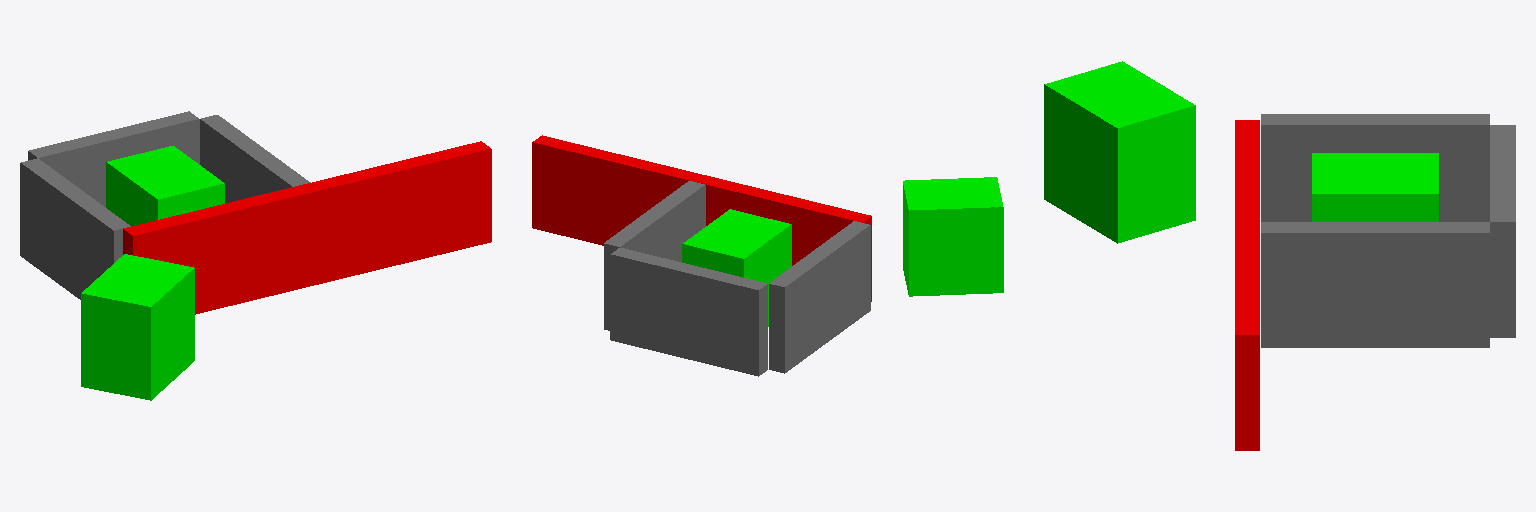
The robot description file, URDF, robot "move_n_times1":
<?xml version="1.0"?>
<!-- created with Phobos 1.0.1 "Capricious Choutengan" -->
  <robot name="move_n_times1">

    <link name="base_link">
    </link>

    <link name="goal">
    </link>

    <link name="link_0_joint_0">
      <visual name="visual_box_2_link_0">
        <origin xyz="0 0 0" rpy="0 0 0"/>
        <geometry>
          <box size="0.374 0.499 0.499"/>
        </geometry>
        <material name="green"/>
      </visual>
      <collision name="collision_box_2_link_0">
        <origin xyz="0 0 0" rpy="0 0 0"/>
        <geometry>
          <box size="0.374 0.499 0.499"/>
        </geometry>
      </collision>
    </link>

    <link name="link_0_joint_0.001">
      <visual name="visual_box_2_link_0.001">
        <origin xyz="0 0 0" rpy="0 0 0"/>
        <geometry>
          <box size="0.37363 0.4985 0.4985"/>
        </geometry>
        <material name="green_translucent"/>
      </visual>
    </link>

    <link name="link_0_joint_1">
    </link>

    <link name="link_0_joint_1.001">
    </link>

    <link name="link_0_joint_2">
    </link>

    <link name="link_1_joint_0">
      <visual name="visual_box_3_link_1">
        <origin xyz="0 0 0" rpy="0 0 0"/>
        <geometry>
          <box size="1.999 0.099 0.499"/>
        </geometry>
        <material name="red"/>
      </visual>
      <collision name="collision_box_3_link_1">
        <origin xyz="0 0 0" rpy="0 0 0"/>
        <geometry>
          <box size="1.999 0.099 0.499"/>
        </geometry>
      </collision>
    </link>

    <link name="link_fixed_4_wall_north_0">
      <visual name="visual_box_fixed_4_wall_north_0">
        <origin xyz="0 0 0" rpy="0 0 0"/>
        <geometry>
          <box size="0.899 0.099 0.499"/>
        </geometry>
        <material name="gray"/>
      </visual>
      <collision name="collision_box_fixed_4_wall_north_0">
        <origin xyz="0 0 0" rpy="0 0 0"/>
        <geometry>
          <box size="0.899 0.099 0.499"/>
        </geometry>
      </collision>
    </link>

    <link name="link_fixed_5_wall_northwest_0">
      <visual name="visual_box_fixed_5_wall_northwest_0">
        <origin xyz="0 0 0" rpy="0 0 0"/>
        <geometry>
          <box size="0.099 0.899 0.499"/>
        </geometry>
        <material name="gray"/>
      </visual>
      <collision name="collision_box_fixed_5_wall_northwest_0">
        <origin xyz="0 0 0" rpy="0 0 0"/>
        <geometry>
          <box size="0.099 0.899 0.499"/>
        </geometry>
      </collision>
    </link>

    <link name="link_fixed_6_wall_northeast_0">
      <visual name="visual_box_fixed_6_wall_northeast_0">
        <origin xyz="0 0 0" rpy="0 0 0"/>
        <geometry>
          <box size="0.099 0.899 0.499"/>
        </geometry>
        <material name="gray"/>
      </visual>
      <collision name="collision_box_fixed_6_wall_northeast_0">
        <origin xyz="0 0 0" rpy="0 0 0"/>
        <geometry>
          <box size="0.099 0.899 0.499"/>
        </geometry>
      </collision>
    </link>

    <joint name="goal" type="fixed">
      <origin xyz="-0.73127 -1.0 0.25" rpy="0 0 2.183"/>
      <parent link="base_link"/>
      <child link="goal"/>
      <limit effort="0" velocity="0"/>
    </joint>

    <joint name="link_0_joint_0" type="revolute">
      <origin xyz="0 0 0" rpy="0 0 0"/>
      <parent link="link_0_joint_1"/>
      <child link="link_0_joint_0"/>
      <axis xyz="0 0 1.0"/>
      <limit lower="-3.14159" upper="3.14159" effort="0" velocity="0"/>
    </joint>

    <joint name="link_0_joint_0.001" type="fixed">
      <origin xyz="0 0 0" rpy="0 0 0"/>
      <parent link="link_0_joint_1.001"/>
      <child link="link_0_joint_0.001"/>
      <limit effort="0" velocity="0"/>
    </joint>

    <joint name="link_0_joint_1" type="prismatic">
      <origin xyz="0 0 0" rpy="0 0 0"/>
      <parent link="link_0_joint_2"/>
      <child link="link_0_joint_1"/>
      <axis xyz="0 1.0 0"/>
      <limit lower="-1.0" upper="0.5" effort="0" velocity="0"/>
    </joint>

    <joint name="link_0_joint_1.001" type="fixed">
      <origin xyz="0 0 0" rpy="0 0 0"/>
      <parent link="goal"/>
      <child link="link_0_joint_1.001"/>
      <limit effort="0" velocity="0"/>
    </joint>

    <joint name="link_0_joint_2" type="prismatic">
      <origin xyz="0 0 0.25" rpy="0 0 0"/>
      <parent link="base_link"/>
      <child link="link_0_joint_2"/>
      <axis xyz="1.0 0 0"/>
      <limit lower="-1.0" upper="1.0" effort="0" velocity="0"/>
    </joint>

    <joint name="link_1_joint_0" type="prismatic">
      <origin xyz="0.5 -0.5 0.25" rpy="0 0 0"/>
      <parent link="base_link"/>
      <child link="link_1_joint_0"/>
      <axis xyz="1.0 0 0"/>
      <limit lower="-1.0" upper="1.0" effort="0" velocity="0"/>
    </joint>

    <joint name="link_fixed_4_wall_north_0" type="fixed">
      <origin xyz="0 0.5 0.25" rpy="0 0 0"/>
      <parent link="base_link"/>
      <child link="link_fixed_4_wall_north_0"/>
    </joint>

    <joint name="link_fixed_5_wall_northwest_0" type="fixed">
      <origin xyz="-0.5 0 0.25" rpy="0 0 0"/>
      <parent link="base_link"/>
      <child link="link_fixed_5_wall_northwest_0"/>
    </joint>

    <joint name="link_fixed_6_wall_northeast_0" type="fixed">
      <origin xyz="0.5 0 0.25" rpy="0 0 0"/>
      <parent link="base_link"/>
      <child link="link_fixed_6_wall_northeast_0"/>
    </joint>

    <material name="gray">
      <color rgba="0.5 0.5 0.5 1.0"/>
    </material>

    <material name="green">
      <color rgba="0 1.0 0 1.0"/>
    </material>

    <material name="green_translucent">
      <color rgba="0 1.0 0 0.25"/>
    </material>

    <material name="red">
      <color rgba="1.0 0 0 1.0"/>
    </material>

  </robot>

--- Render facts (derived) ---
Views: 3 orthographic renders of the robot side by side, from view 1: azimuth 30°, elevation 25°; view 2: azimuth 150°, elevation 25°; view 3: azimuth 270°, elevation 25°.
Model move_n_times1 with 11 links and 10 joints (1 revolute, 3 prismatic, 6 fixed), rooted at base_link, posed every joint at zero.
Links seen in each view (by area): view 1: link_1_joint_0, link_0_joint_0.001, link_fixed_5_wall_northwest_0, link_0_joint_0, link_fixed_4_wall_north_0, link_fixed_6_wall_northeast_0; view 2: link_1_joint_0, link_fixed_4_wall_north_0, link_0_joint_0.001, link_fixed_5_wall_northwest_0, link_0_joint_0, link_fixed_6_wall_northeast_0; view 3: link_fixed_6_wall_northeast_0, link_0_joint_0.001, link_fixed_5_wall_northwest_0, link_0_joint_0, link_1_joint_0, link_fixed_4_wall_north_0.
Link boxes in pixels (left/top/right/bottom): link_1_joint_0: left=123, top=141, right=491, bottom=314; link_0_joint_0.001: left=81, top=254, right=194, bottom=400; link_fixed_5_wall_northwest_0: left=20, top=158, right=130, bottom=299; link_0_joint_0: left=106, top=146, right=224, bottom=225; link_fixed_4_wall_north_0: left=28, top=111, right=199, bottom=206; link_fixed_6_wall_northeast_0: left=200, top=115, right=310, bottom=203; link_1_joint_0: left=532, top=135, right=871, bottom=301; link_fixed_4_wall_north_0: left=610, top=248, right=767, bottom=376; link_0_joint_0.001: left=903, top=177, right=1003, bottom=296; link_fixed_5_wall_northwest_0: left=769, top=221, right=870, bottom=373; link_0_joint_0: left=682, top=209, right=791, bottom=326; link_fixed_6_wall_northeast_0: left=604, top=181, right=705, bottom=330; link_fixed_6_wall_northeast_0: left=1261, top=222, right=1489, bottom=347; link_0_joint_0.001: left=1044, top=61, right=1195, bottom=243; link_fixed_5_wall_northwest_0: left=1261, top=114, right=1489, bottom=221; link_0_joint_0: left=1312, top=153, right=1438, bottom=221; link_1_joint_0: left=1235, top=120, right=1259, bottom=450; link_fixed_4_wall_north_0: left=1490, top=125, right=1515, bottom=337.
Size in the robot's own frame: 2.54 by 1.85 by 0.499 metres.
Geometry: primitives only (box / cylinder / sphere), no mesh files.